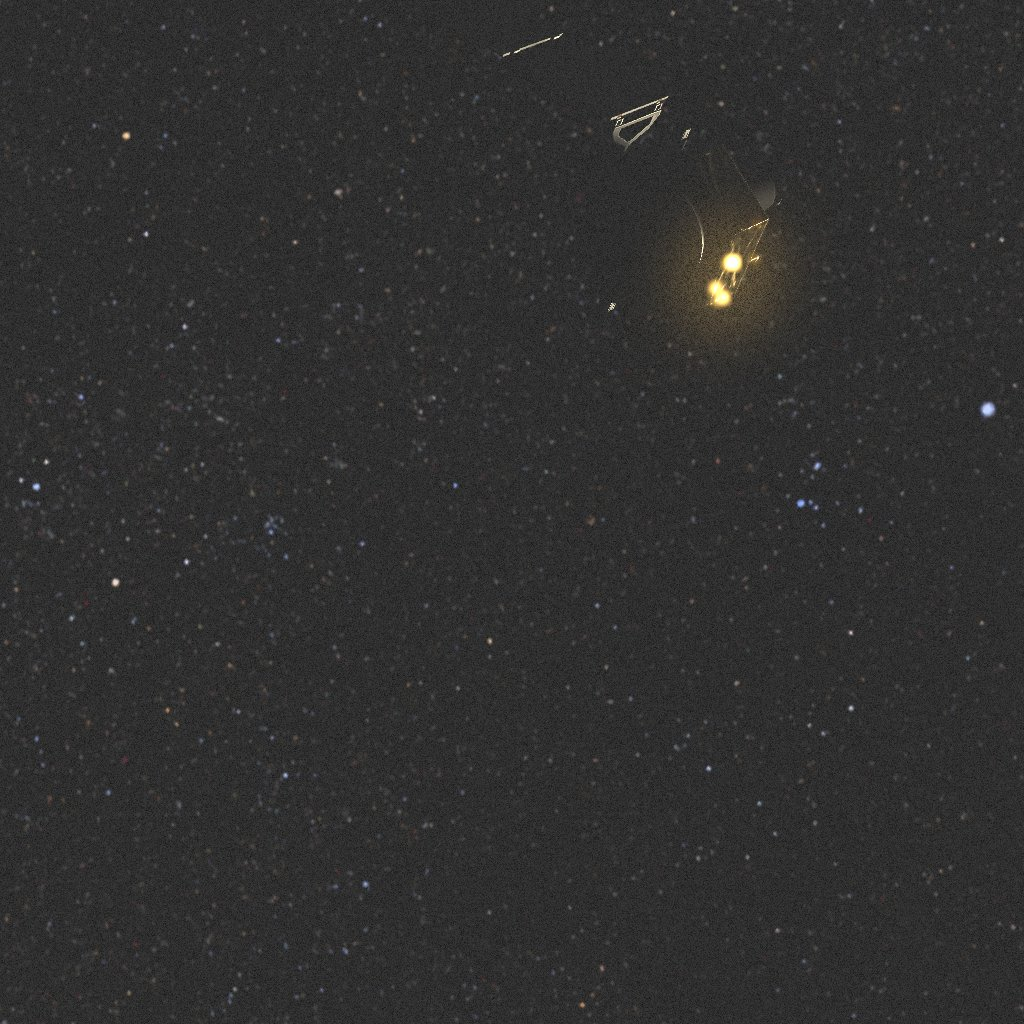earth_observation_sat_1: (409, 0, 782, 316)
